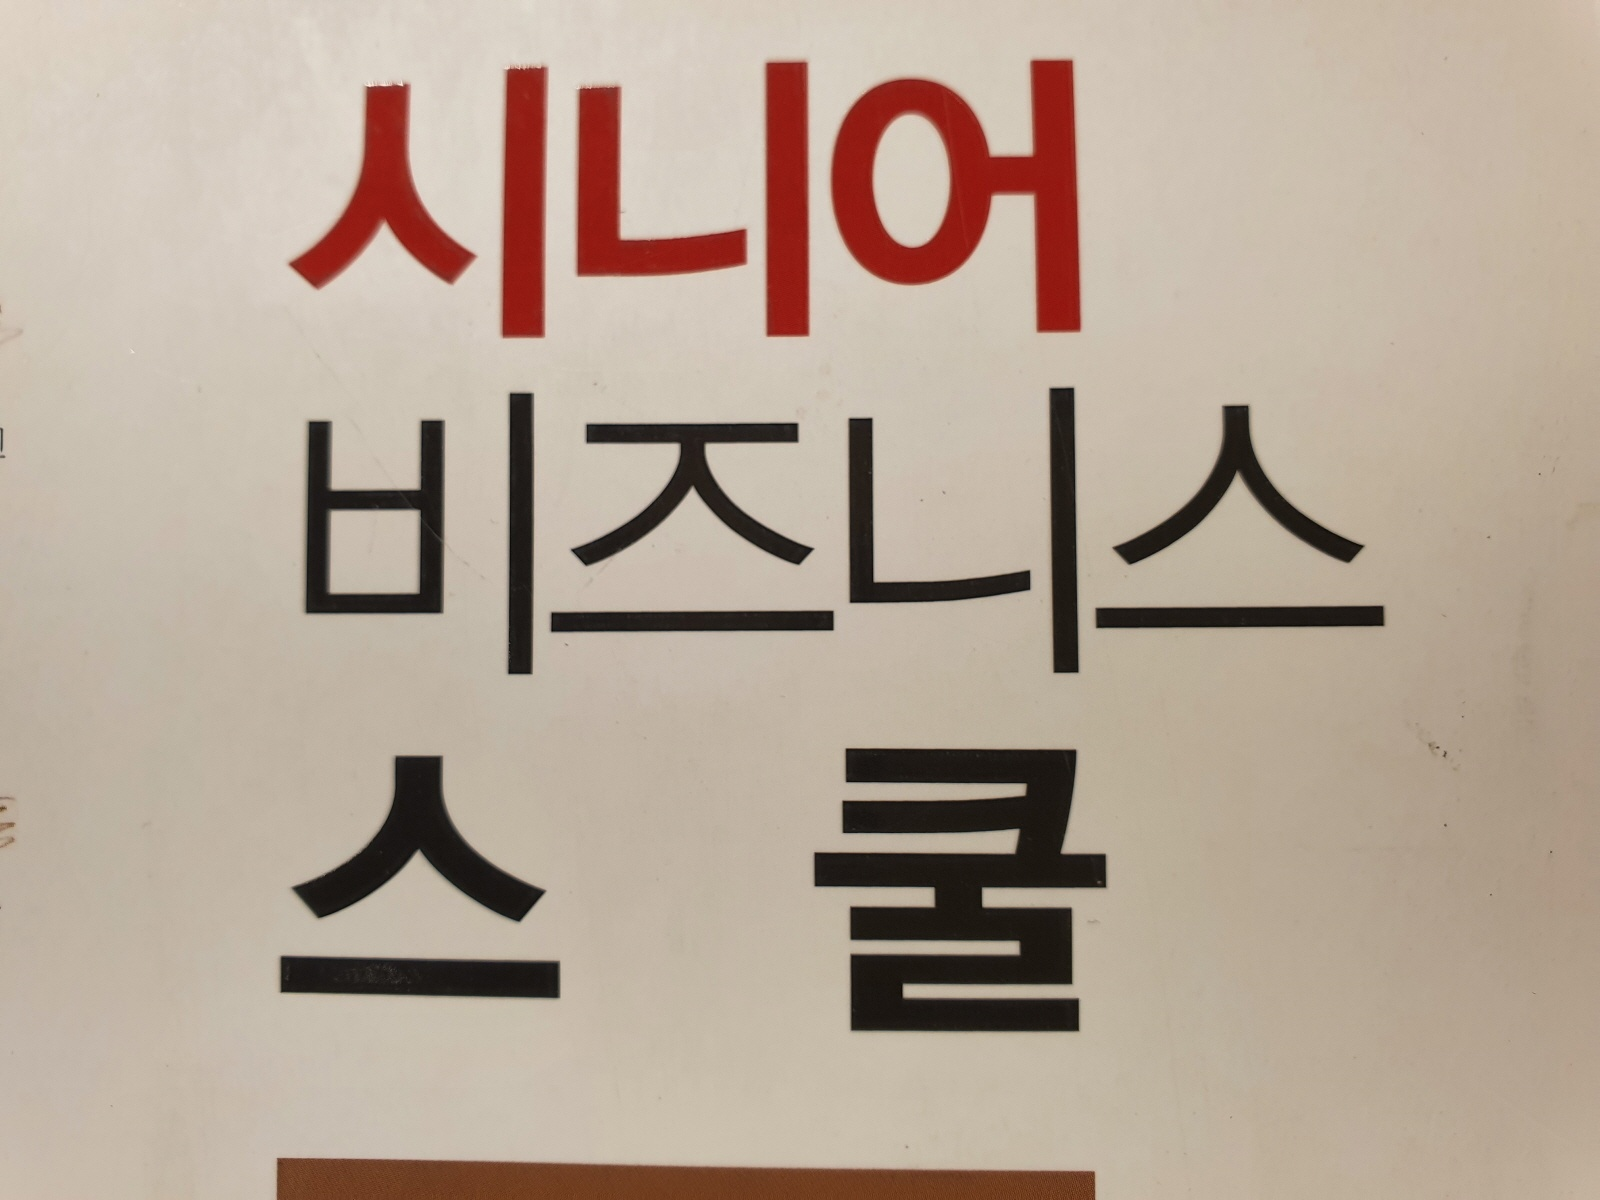text: (254, 363, 1419, 693), (260, 715, 1149, 1097), (268, 47, 1144, 349)
